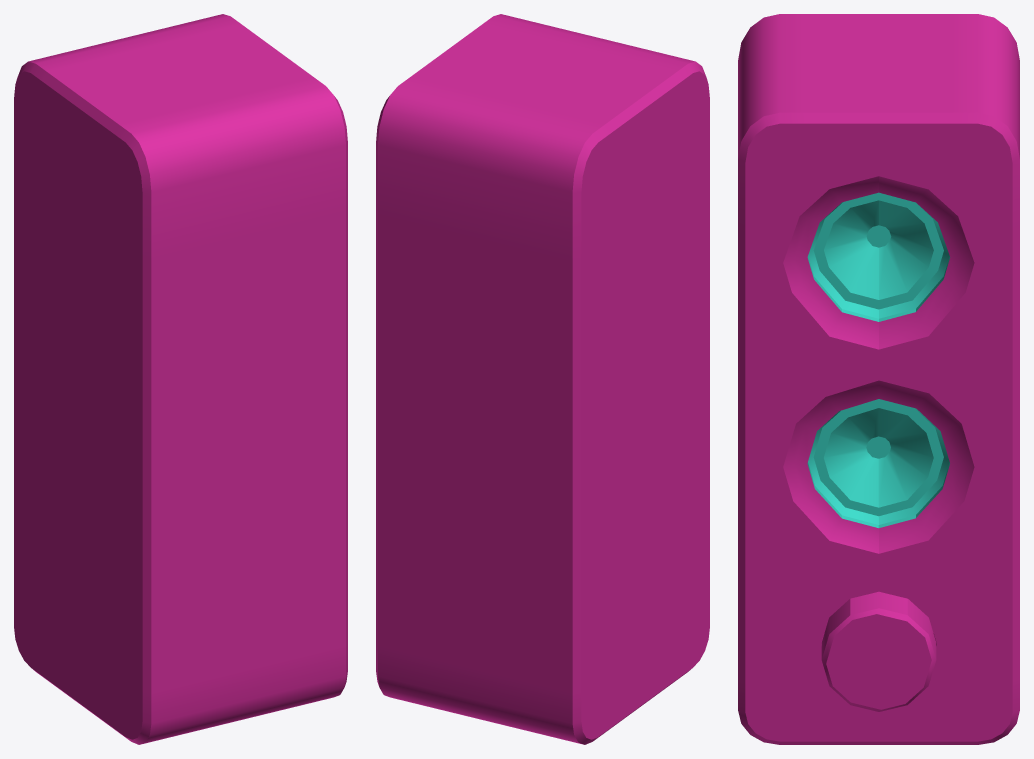
File: SpeakerSimple.fbx
The picture shows the model from 3 angles, left to right: view 1: azimuth 30°, elevation 25°; view 2: azimuth 150°, elevation 25°; view 3: azimuth 270°, elevation 25°; orthographic projection. The views are drawn at different scales.
Visible parts, largest first — view 1: Speaker; view 2: Speaker; view 3: Speaker.
Part boxes in pixels (<box>): Speaker: <box>14,14,347,744</box>; Speaker: <box>376,14,709,744</box>; Speaker: <box>738,14,1019,744</box>.
Bounding box in the file's own units: 164 × 396 × 160.
